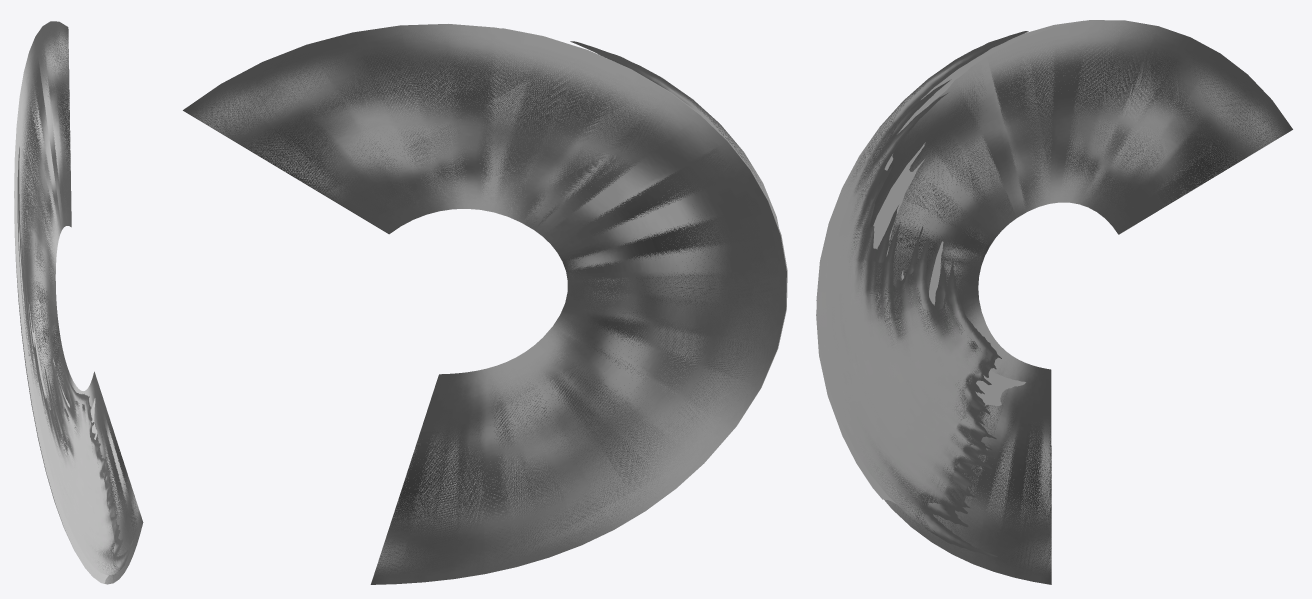
Rendered from fx_cookie0015_skill01.fbx.
3 renders of one model, left to right at view 1: azimuth 30°, elevation 25°; view 2: azimuth 150°, elevation 25°; view 3: azimuth 270°, elevation 25°, orthographic. The views are drawn at different scales.
Parts seen in each view (by area): view 1: L_scratch2 (1), L_scratch, L_scratch2; view 2: L_scratch2 (1), L_scratch, L_scratch2; view 3: L_scratch2 (1), L_scratch, L_scratch2.
Boxes of the visible parts, <box> form: L_scratch2 (1): <box>14,21,143,584</box>; L_scratch: <box>17,147,133,575</box>; L_scratch2: <box>14,101,108,583</box>; L_scratch2 (1): <box>183,24,786,584</box>; L_scratch: <box>570,41,778,227</box>; L_scratch2: <box>501,28,787,488</box>; L_scratch2 (1): <box>869,20,1292,584</box>; L_scratch: <box>816,31,1028,556</box>; L_scratch2: <box>816,20,1084,503</box>.
Size of the model in its own units: 240 by 447 by 365.
